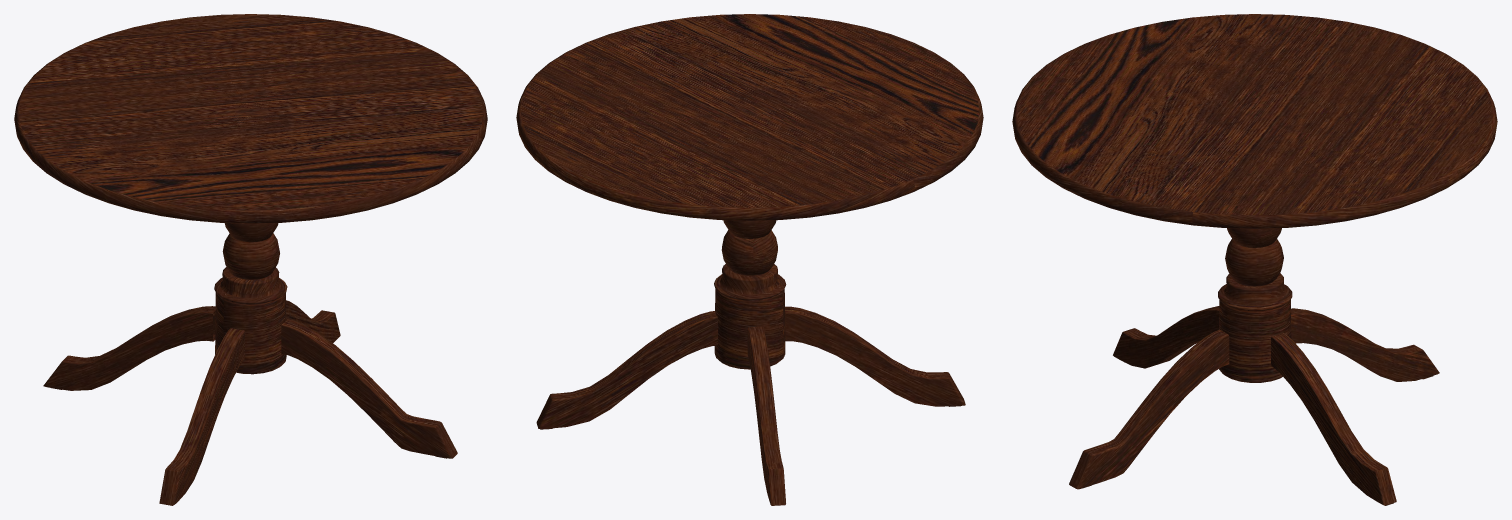
Rendered from table.fbx.
3 views of the same model, side by side, from view 1: azimuth 30°, elevation 25°; view 2: azimuth 150°, elevation 25°; view 3: azimuth 270°, elevation 25° (orthographic). The views are drawn at different scales.
Visible parts, largest first — view 1: round_wooden_table_01.002; view 2: round_wooden_table_01.002; view 3: round_wooden_table_01.002.
Boxes of the visible parts, bbox=[...] form: round_wooden_table_01.002: bbox=[14, 14, 487, 505]; round_wooden_table_01.002: bbox=[516, 14, 983, 505]; round_wooden_table_01.002: bbox=[1012, 14, 1497, 505].
Bounding box in the file's own units: 261 × 188 × 261.
